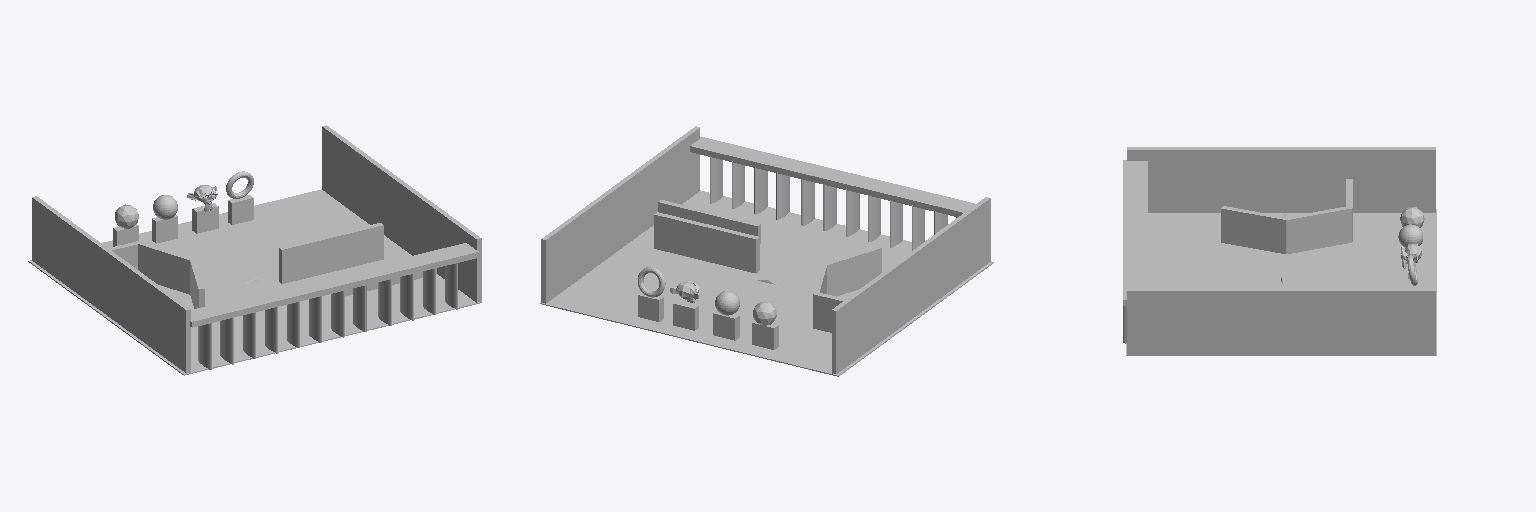
The model's file is quicktest.obj.
3 renders of one model, left to right at view 1: azimuth 30°, elevation 25°; view 2: azimuth 150°, elevation 25°; view 3: azimuth 270°, elevation 25°, orthographic.
Parts seen in each view (by area): view 1: Cube, Cube.001, Cube.006, Cube.007, Cube.009, Cube.011, Cube.005, Cube.004, Cube.003, Cylinder.003, Cylinder.002, Cylinder.005 (+10 smaller); view 2: Cube, Cube.001, Cube.006, Cube.007, Cube.009, Cube.012, Cube.008, Cube.010, Cube.004, Cube.003, Cube.002, Cube.005 (+9 smaller); view 3: Cube.006, Cube.001, Cube, Cube.007, Cube.012, Cube.011.
Boxes of the visible parts, x1,y1,x2,y2 form: Cube: [28, 189, 481, 375]; Cube.001: [32, 196, 190, 373]; Cube.006: [322, 125, 481, 302]; Cube.007: [190, 243, 479, 327]; Cube.009: [279, 223, 383, 283]; Cube.011: [138, 241, 194, 294]; Cube.005: [228, 195, 253, 224]; Cube.004: [192, 203, 218, 233]; Cube.003: [152, 215, 177, 243]; Cylinder.003: [353, 285, 366, 331]; Cylinder.002: [331, 291, 344, 337]; Cylinder.005: [220, 318, 233, 364]; Cube: [540, 190, 993, 376]; Cube.001: [832, 197, 990, 373]; Cube.006: [541, 126, 699, 303]; Cube.007: [690, 137, 975, 216]; Cube.009: [654, 212, 759, 273]; Cube.012: [822, 246, 881, 296]; Cube.008: [658, 200, 760, 243]; Cube.010: [813, 292, 845, 332]; Cube.004: [673, 300, 698, 330]; Cube.003: [713, 311, 739, 340]; Cube.002: [752, 321, 778, 349]; Cube.005: [638, 292, 663, 321]; Cube.006: [1127, 289, 1435, 354]; Cube.001: [1127, 147, 1435, 212]; Cube: [1126, 209, 1436, 355]; Cube.007: [1123, 160, 1147, 305]; Cube.012: [1221, 206, 1287, 253]; Cube.011: [1285, 206, 1351, 253].
Bounding box in the file's own units: 27.43 × 6.58 × 25.03.